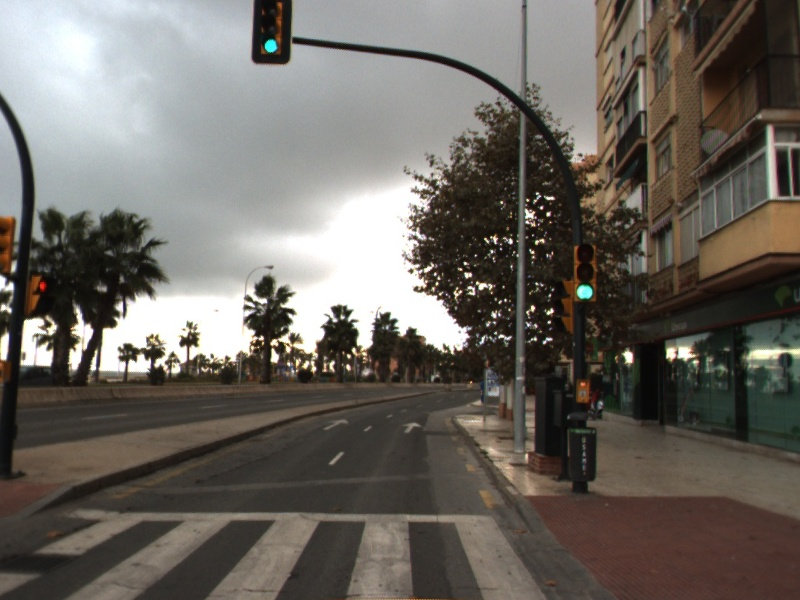STRAIGHT: (321, 417, 350, 432), (400, 421, 424, 435)
